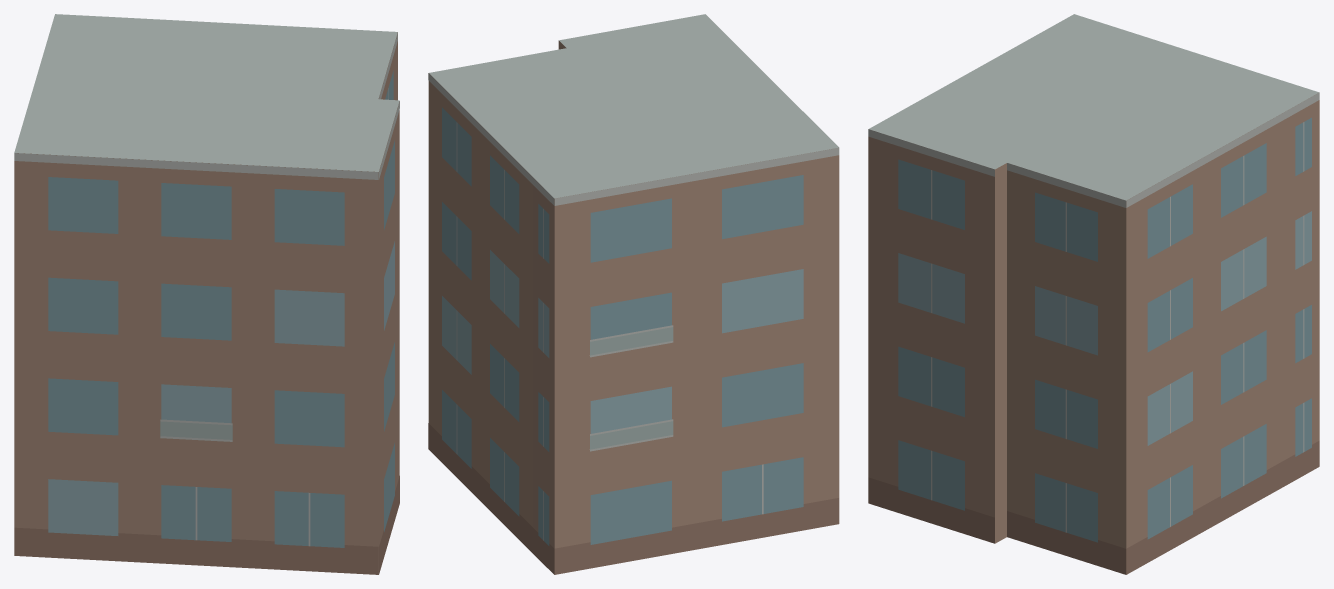
Rendered from residential-6b947c9c-db92-4dda-9c14-5c10b73acd4b.glb.
The picture shows the model from 3 angles, left to right: view 1: azimuth 30°, elevation 25°; view 2: azimuth 150°, elevation 25°; view 3: azimuth 270°, elevation 25°; orthographic projection. The views are drawn at different scales.
Parts seen in each view (by area): view 1: residential-6b947c9c-db92-4dda-9c14-5c10b73acd4b.tmp; view 2: residential-6b947c9c-db92-4dda-9c14-5c10b73acd4b.tmp; view 3: residential-6b947c9c-db92-4dda-9c14-5c10b73acd4b.tmp.
Part boxes in pixels (x1=…): residential-6b947c9c-db92-4dda-9c14-5c10b73acd4b.tmp: x1=14, y1=14, x2=399, y2=574; residential-6b947c9c-db92-4dda-9c14-5c10b73acd4b.tmp: x1=428, y1=14, x2=839, y2=574; residential-6b947c9c-db92-4dda-9c14-5c10b73acd4b.tmp: x1=868, y1=14, x2=1319, y2=574.
Bounding box in the file's own units: 13.06 × 12.2 × 13.33.
